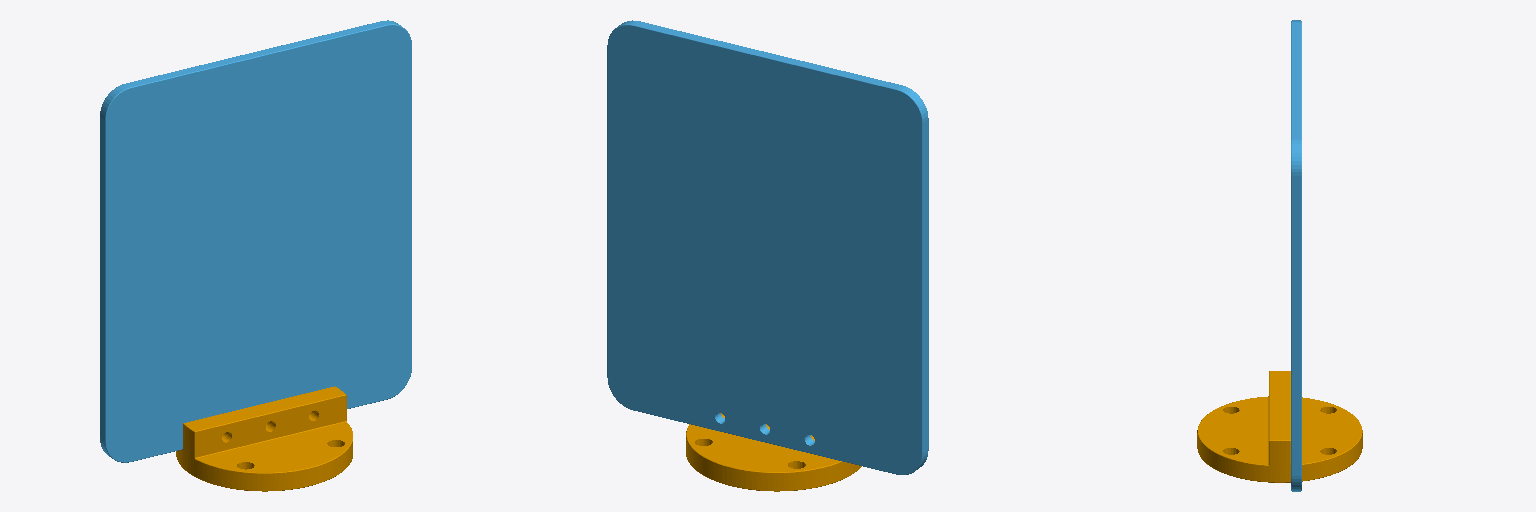
robot.urdf — tactile_pad:
<?xml version="1.0"?>
<robot name="tactile_pad">

  <!-- Mounting Pad Link -->
  <link name="mounting_pad">
    <visual>
      <geometry>
        <mesh filename="package://virtual_tactile_pad/urdf/meshes/mounting_pad.stl" />
      </geometry>
      <material name="mounting_pad_gray"/>
    </visual>
    <collision>
      <geometry>
        <mesh filename="package://virtual_tactile_pad/urdf/meshes/mounting_pad.stl" />
      </geometry>
    </collision>
    <inertial>
      <mass value="0.184292"/>
      <inertia ixx="0.0000361368" ixy="0.0" ixz="0.0" iyy="0.000046691" iyz="0.0" izz="0.00007688"/>
    </inertial>
  </link>

  <!-- Pad Link -->
  <link name="pad">
    <visual>
      <geometry>
        <mesh filename="package://virtual_tactile_pad/urdf/meshes/pad.stl" />
      </geometry>
      <material name="pad_blue"/>
    </visual>
    <collision>
      <geometry>
        <mesh filename="package://virtual_tactile_pad/urdf/meshes/pad.stl" />
      </geometry>
    </collision>
    <inertial>
      <mass value="0.145376"/>
      <inertia ixx="0.0002345" ixy="0.0" ixz="0.0" iyy="0.0004074" iyz="0.0" izz="0.0001733"/>
    </inertial>
  </link>

  <!-- Rigid Joint between Mounting Pad and Pad -->
  <joint name="mounting_pad_to_pad" type="fixed">
    <parent link="mounting_pad"/>
    <child link="pad"/>
    <origin xyz="0 0 0" rpy="0 0 0."/>
  </joint>

</robot>

--- Facts derived from the render (not from the file) ---
Views: 3 orthographic renders of the robot side by side, from view 1: azimuth 30°, elevation 25°; view 2: azimuth 150°, elevation 25°; view 3: azimuth 270°, elevation 25°.
Model tactile_pad with 2 links and 1 joints (1 fixed), rooted at mounting_pad, posed all joints at 0.
Links seen in each view (by area): view 1: pad, mounting_pad; view 2: pad, mounting_pad; view 3: mounting_pad, pad.
Boxes of the visible links, x1=… form: pad: x1=100, y1=20, x2=411, y2=462; mounting_pad: x1=176, y1=386, x2=352, y2=491; pad: x1=607, y1=20, x2=928, y2=474; mounting_pad: x1=686, y1=413, x2=861, y2=491; mounting_pad: x1=1197, y1=371, x2=1362, y2=482; pad: x1=1291, y1=20, x2=1301, y2=491.
Bounding box of the posed robot: 0.12 × 0.06 × 0.147 m (x, y, z).
Meshes: 2 distinct files referenced, 2 mesh visuals loaded (2 binary STL).